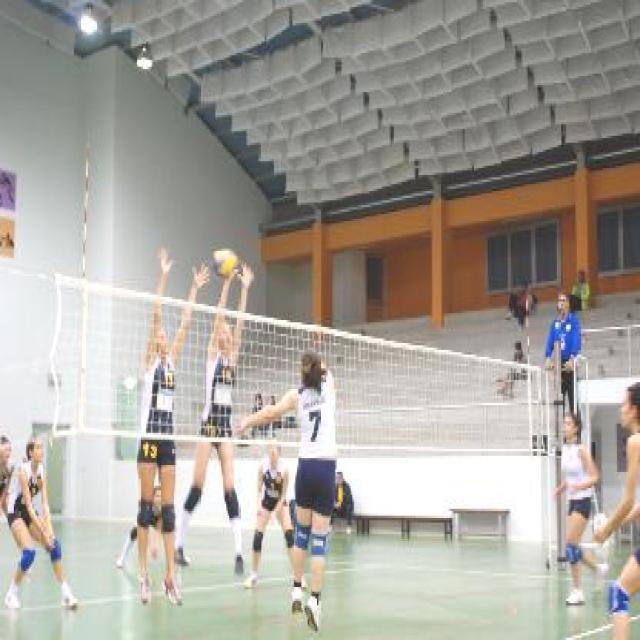volleyball: (207, 247, 240, 276)
